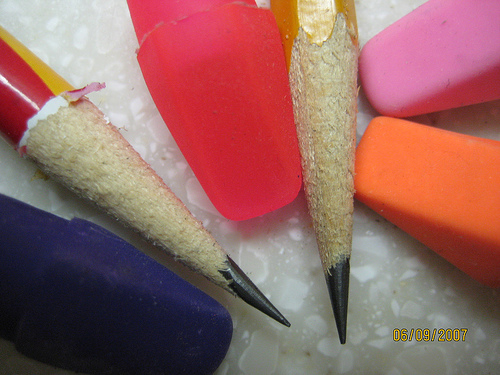pen_tip: (12, 49, 306, 343)
